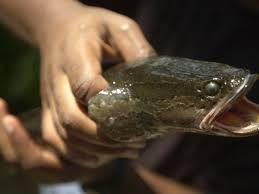Snakehead: (63, 42, 259, 154)
